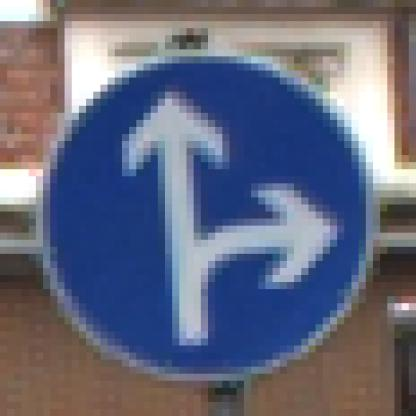Straight or Right: (44, 43, 381, 382)
